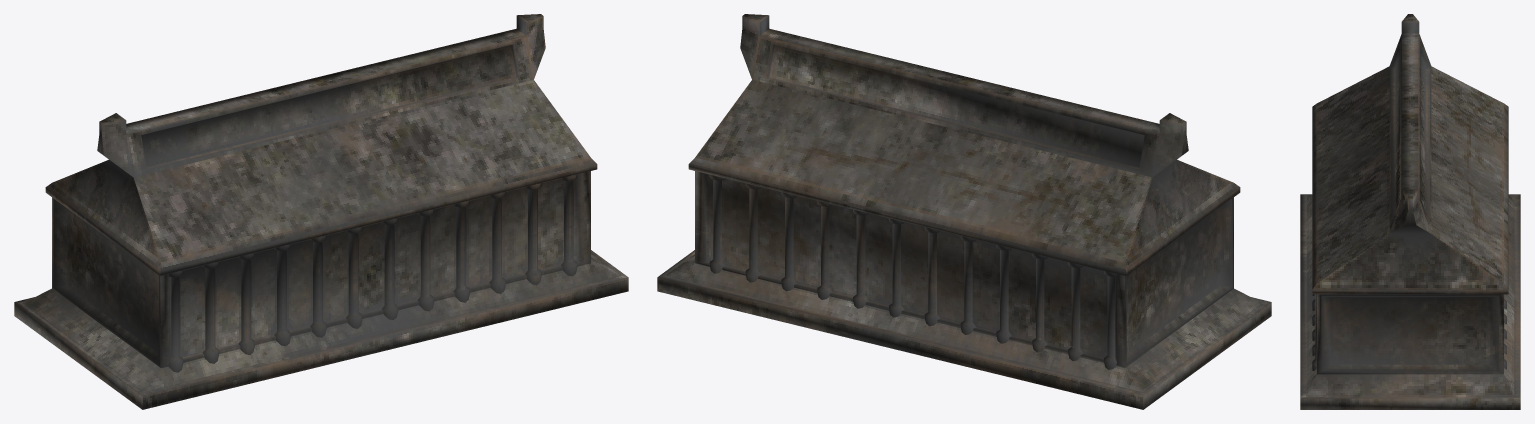
The model's file is sarcophagus_new.glb.
3 views of the same model, side by side, from view 1: azimuth 30°, elevation 25°; view 2: azimuth 150°, elevation 25°; view 3: azimuth 270°, elevation 25° (orthographic). The views are drawn at different scales.
Parts seen in each view (by area): view 1: MeshInstance3D; view 2: MeshInstance3D; view 3: MeshInstance3D.
Part boxes in pixels (bbox=[...]): MeshInstance3D: bbox=[14, 14, 628, 409]; MeshInstance3D: bbox=[657, 14, 1271, 409]; MeshInstance3D: bbox=[1300, 14, 1520, 409].
Bounding box in the file's own units: 4.57 × 2.12 × 2.09.
1 material, 1 textured.
